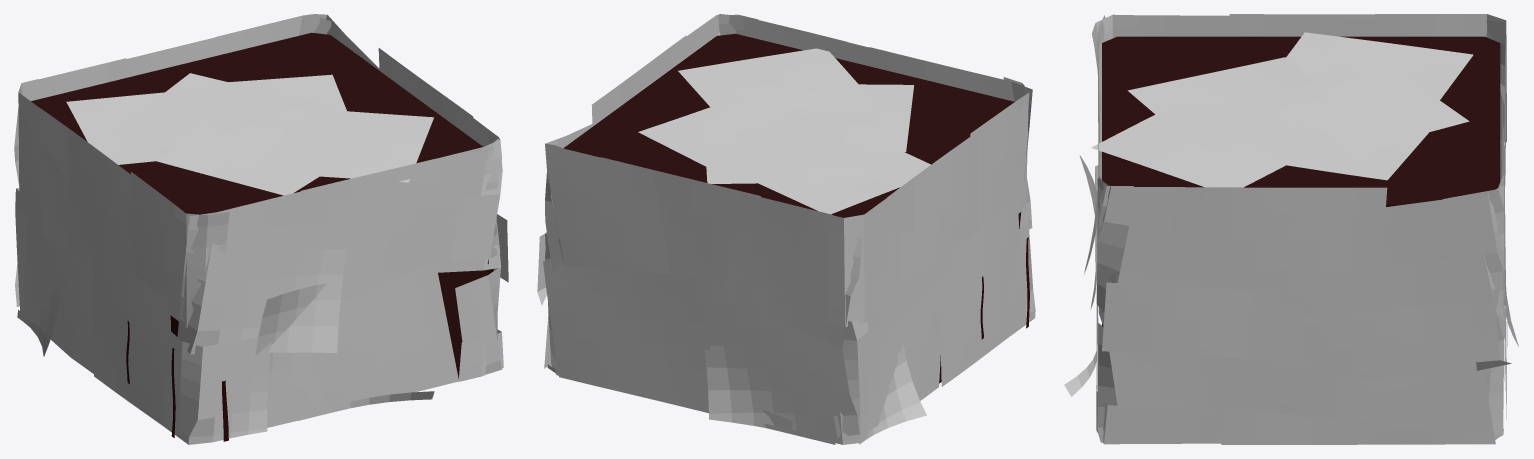
The model's file is ps_block@4.glb.
3 views of the same model, side by side, from view 1: azimuth 30°, elevation 25°; view 2: azimuth 150°, elevation 25°; view 3: azimuth 270°, elevation 25° (orthographic). The views are drawn at different scales.
Parts seen in each view (by area): view 1: teil1, teil0, teil2; view 2: teil1, teil0; view 3: teil1, teil0.
Boxes of the visible parts, left/top/right/bottom form: teil1: left=14, top=14, right=508, bottom=444; teil0: left=31, top=32, right=493, bottom=378; teil2: left=126, top=321, right=228, bottom=441; teil1: left=537, top=14, right=1035, bottom=444; teil0: left=563, top=33, right=1021, bottom=383; teil1: left=1064, top=14, right=1518, bottom=444; teil0: left=1102, top=36, right=1500, bottom=326.
Bounding box in the file's own units: 0.9986 × 0.64 × 1.03.
